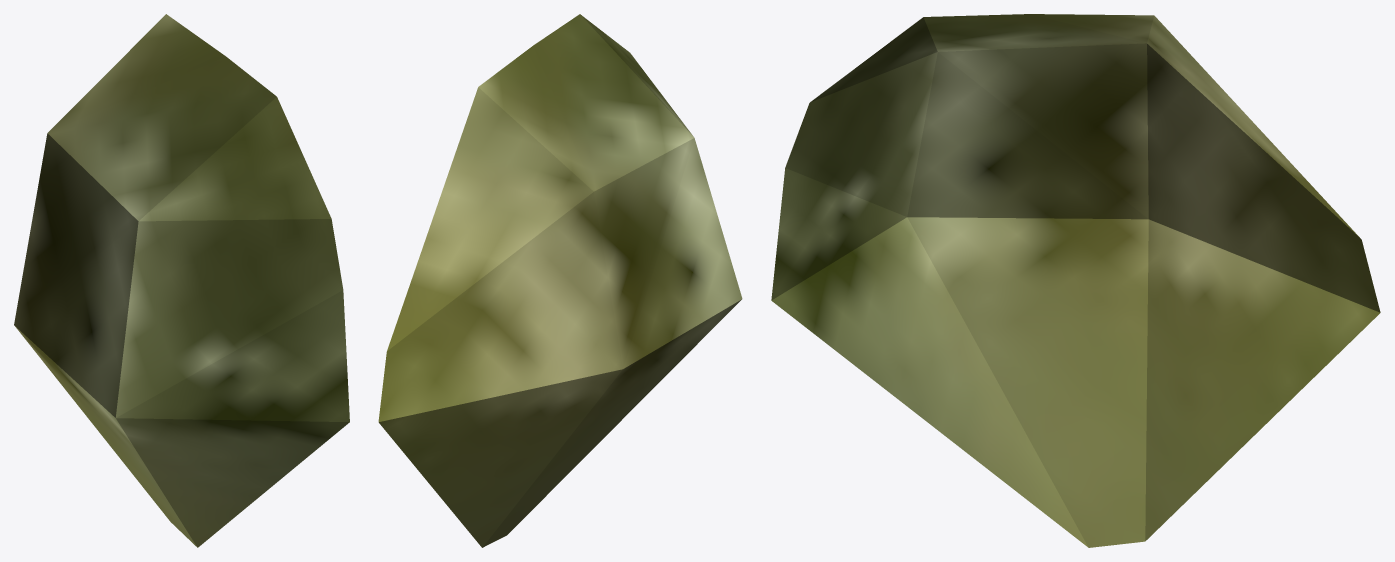
3 views of the same model, side by side, from view 1: azimuth 30°, elevation 25°; view 2: azimuth 150°, elevation 25°; view 3: azimuth 270°, elevation 25° (orthographic). The views are drawn at different scales.
Bounding box in the file's own units: 0.0723 × 0.2093 × 0.2165.
Materials: 1 (1 with a texture image).
